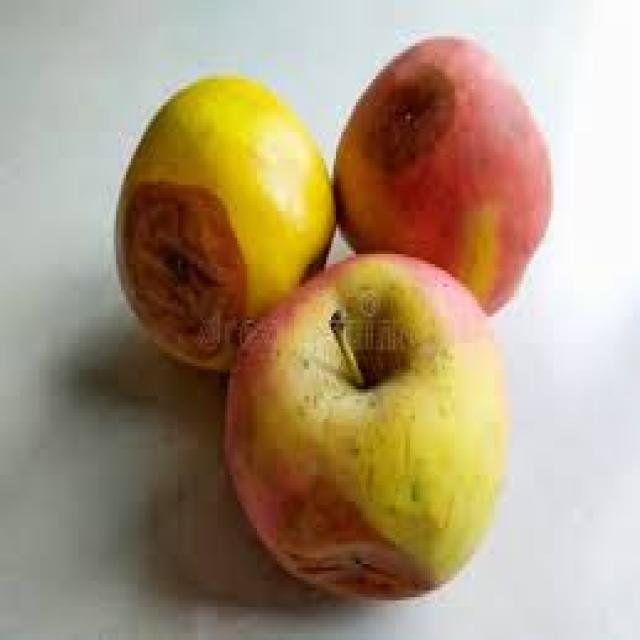Rotten Apple: (241, 260, 513, 604), (116, 76, 328, 364), (336, 38, 559, 305)
